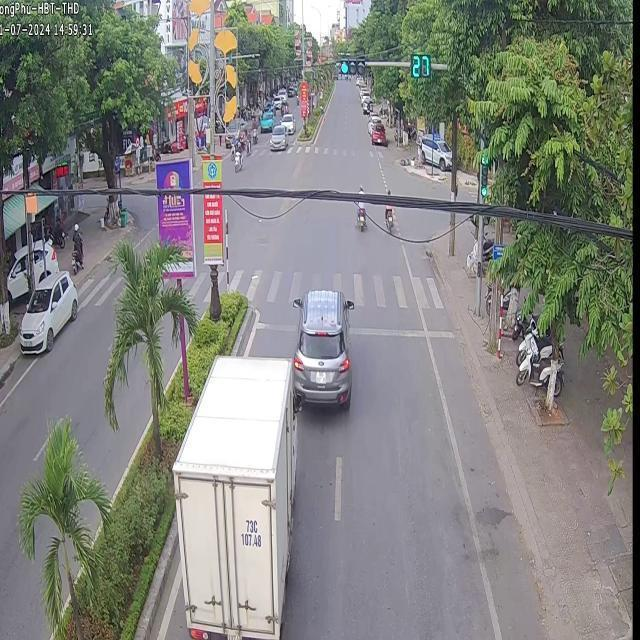car: (287, 286, 354, 422)
motobike: (172, 354, 296, 636), (351, 173, 367, 245), (380, 182, 394, 243)
red_light: (337, 54, 364, 74), (477, 154, 489, 186)
stop_line: (351, 322, 453, 337), (254, 320, 296, 330)
